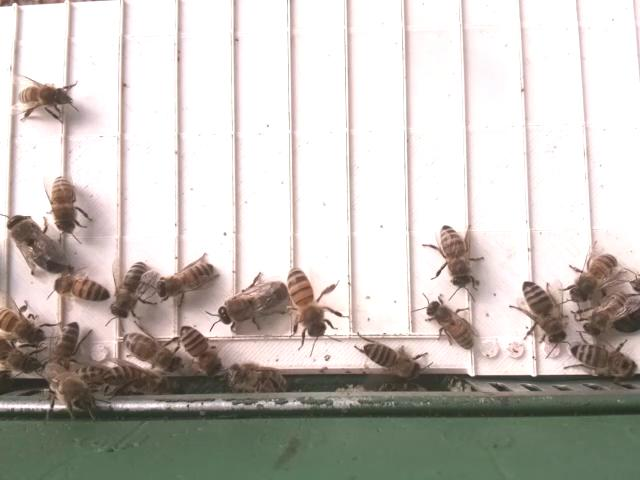Drone: (3, 211, 70, 276), (214, 279, 289, 328)
Worker: (520, 278, 568, 350), (285, 265, 329, 340), (424, 298, 477, 353), (153, 259, 218, 301), (108, 260, 152, 321), (121, 330, 183, 373), (436, 221, 474, 290), (570, 251, 620, 303), (176, 322, 225, 374), (358, 338, 422, 376), (569, 339, 636, 375), (14, 82, 77, 112), (50, 173, 79, 238), (48, 317, 82, 369), (53, 274, 112, 303)
